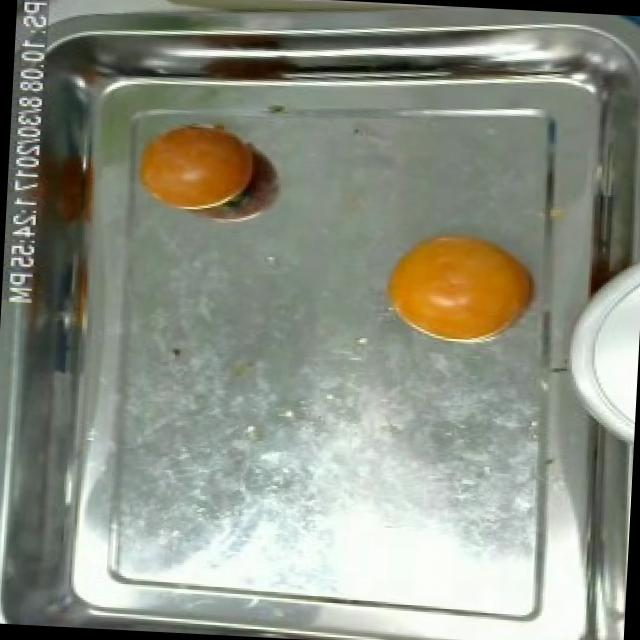Fruit: (370, 220, 548, 360), (114, 107, 274, 225)
